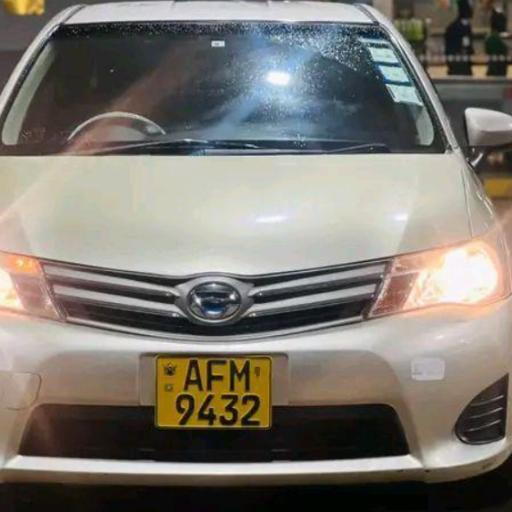number-plates: (160, 358, 269, 430)
